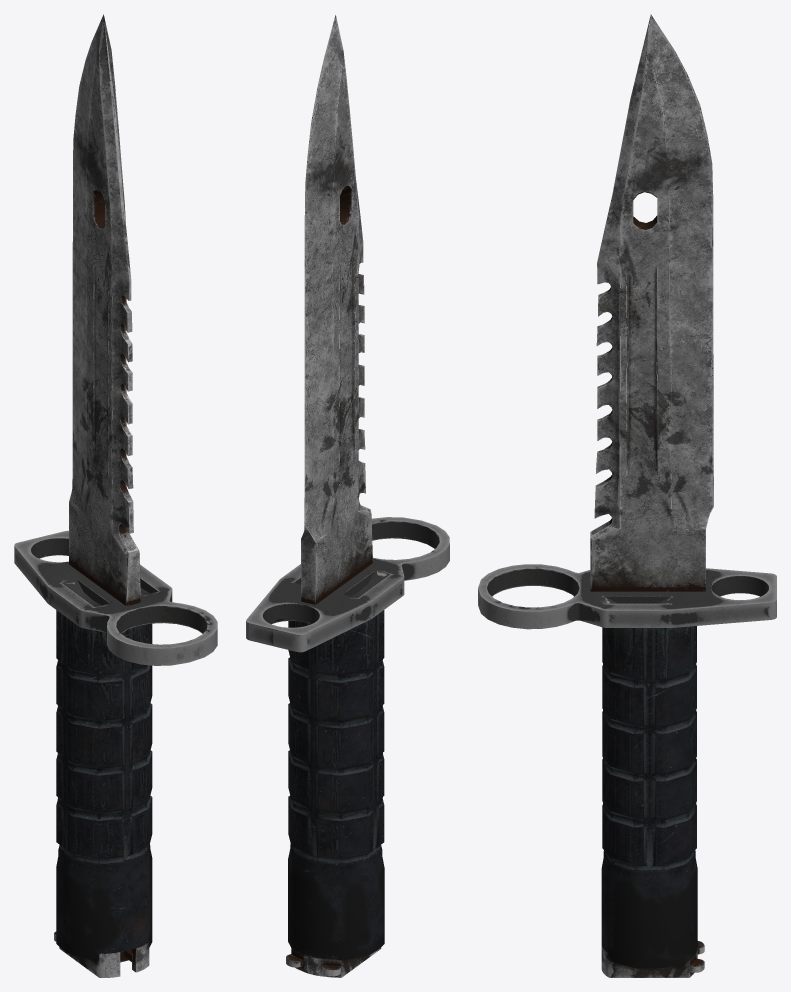
The model's file is m9_-_army_bayonet_knife.fbx.
The picture shows the model from 3 angles, left to right: view 1: azimuth 30°, elevation 25°; view 2: azimuth 150°, elevation 25°; view 3: azimuth 270°, elevation 25°; orthographic projection.
Parts seen in each view (by area): view 1: M9_knife_low.001; view 2: M9_knife_low.001; view 3: M9_knife_low.001.
Part boxes in pixels (bbox=[...]): M9_knife_low.001: bbox=[14, 14, 217, 977]; M9_knife_low.001: bbox=[246, 15, 449, 977]; M9_knife_low.001: bbox=[478, 14, 776, 977].
Bounding box in the file's own units: 0.4968 × 4.63 × 1.32.
Materials: 1 (1 with a texture image).
